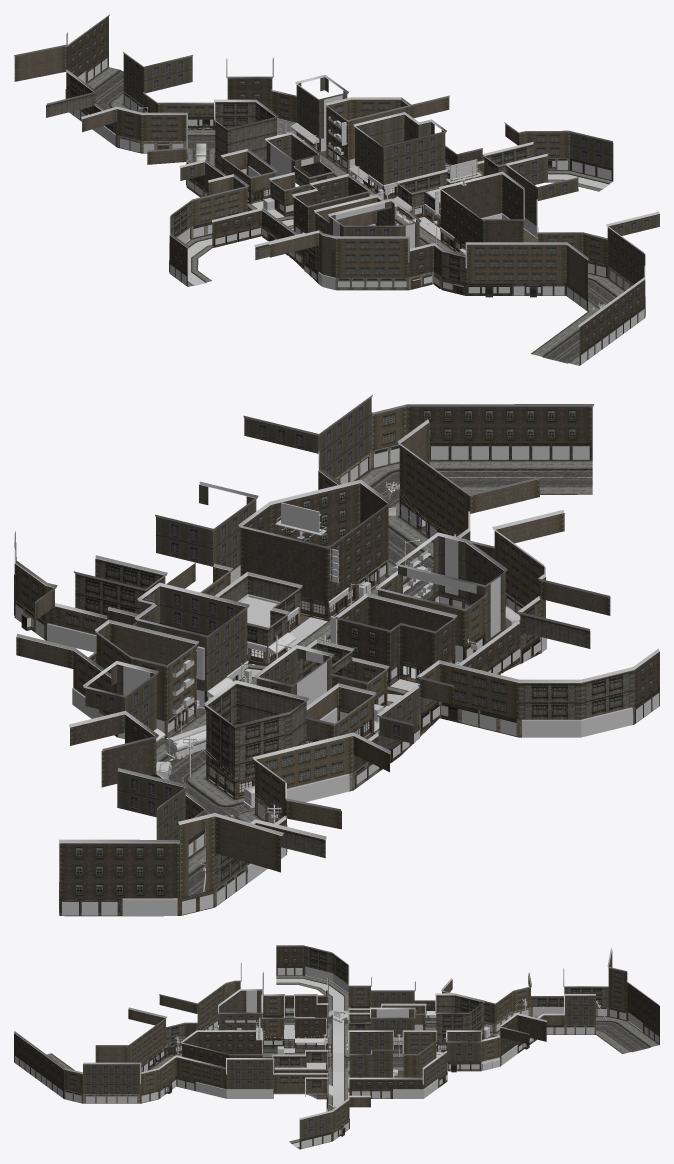
File: Uptown_World.obj
3 views of the same model, one above another, from view 1: azimuth 30°, elevation 25°; view 2: azimuth 150°, elevation 25°; view 3: azimuth 270°, elevation 25° (orthographic). The views are drawn at different scales.
Visible parts, largest first — view 1: Uptown_World_01, Uptown_World_02, Uptown_Object; view 2: Uptown_World_02, Uptown_World_01, Uptown_Object; view 3: Uptown_World_02, Uptown_World_01, Uptown_Object.
Boxes of the visible parts, x1,y1,x2,y2 form: Uptown_World_01: (186,141,659,365); Uptown_World_02: (14,14,613,286); Uptown_Object: (97,97,606,309); Uptown_World_02: (14,531,659,916); Uptown_World_01: (73,394,610,705); Uptown_Object: (156,481,520,891); Uptown_World_02: (276,945,659,1149); Uptown_World_01: (14,962,349,1149); Uptown_Object: (147,998,606,1110).
Bounding box in the file's own units: 123 × 21.66 × 205.
